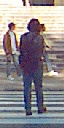person: (16, 20, 52, 110)
